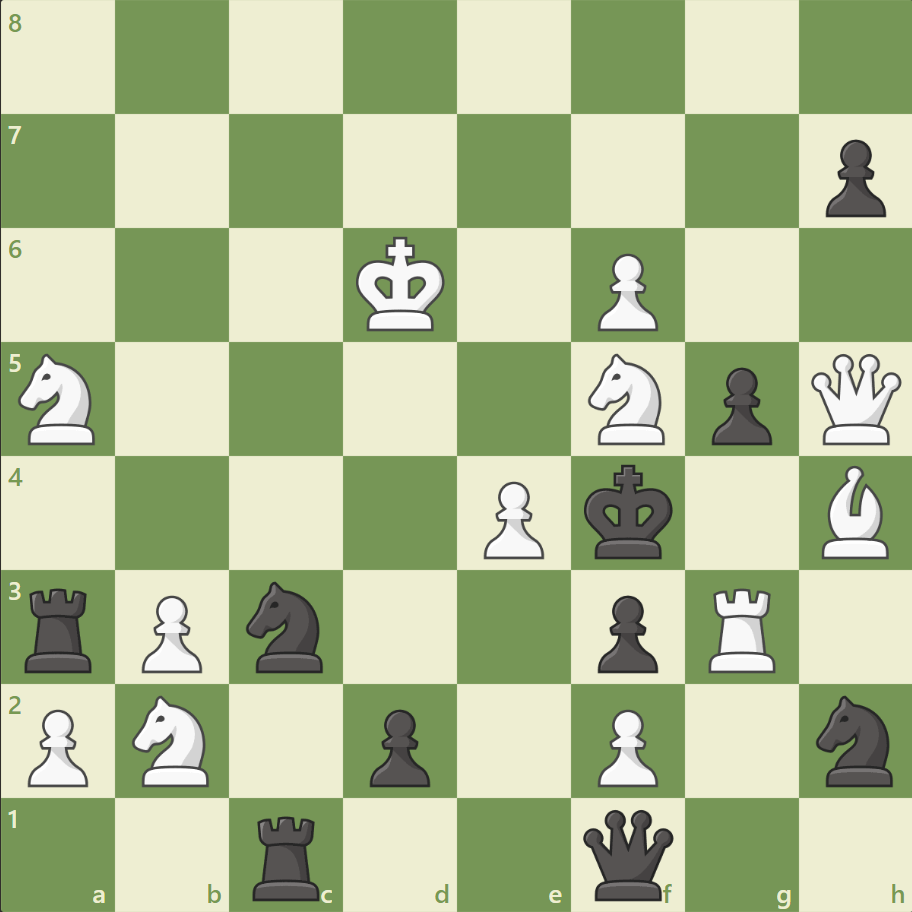B: (812, 460, 896, 563)
K: (351, 231, 451, 339)
N: (124, 688, 222, 791), (11, 348, 108, 450), (579, 348, 676, 450)
P: (474, 473, 549, 564), (133, 586, 208, 677), (20, 700, 95, 791), (588, 246, 662, 337), (588, 700, 662, 791)
Q: (805, 349, 904, 449)
R: (700, 579, 783, 676)
k: (579, 458, 679, 566)
n: (806, 688, 903, 791), (238, 575, 335, 677)
p: (701, 359, 776, 450), (815, 132, 889, 223), (588, 586, 662, 677), (361, 700, 435, 791)
q: (578, 804, 677, 903)
r: (246, 806, 329, 904), (19, 579, 102, 676)
